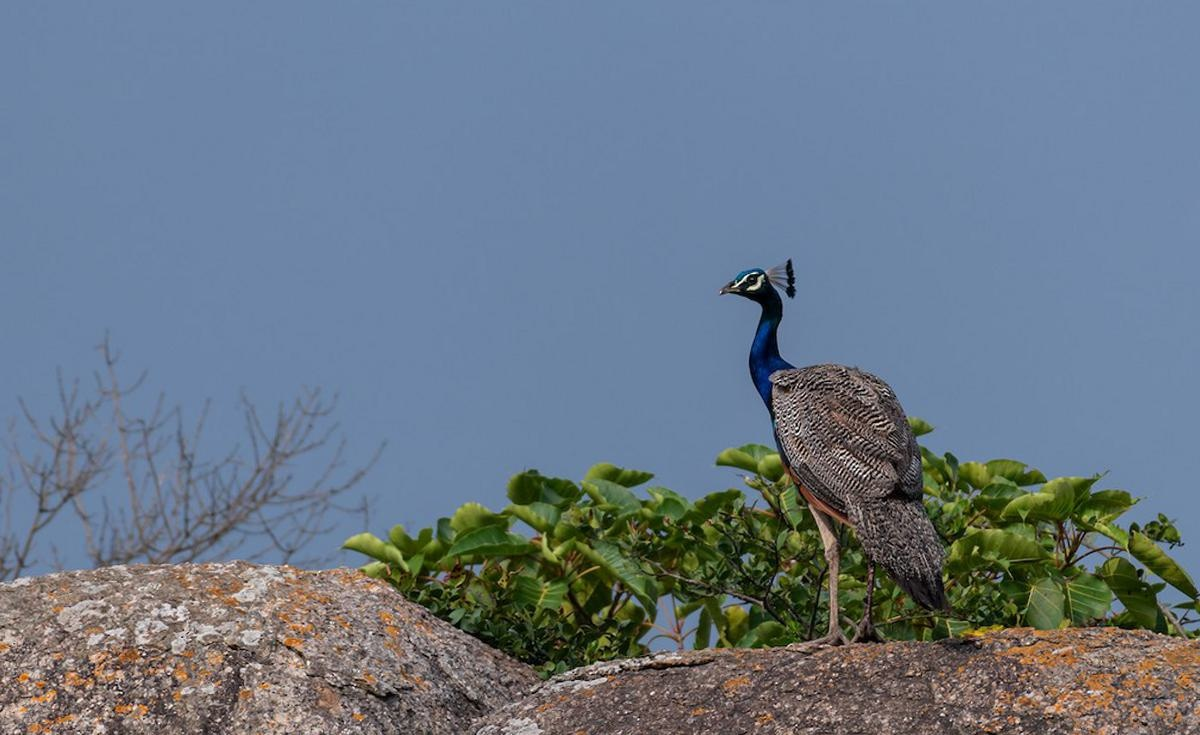peacock: (694, 214, 1015, 654)
